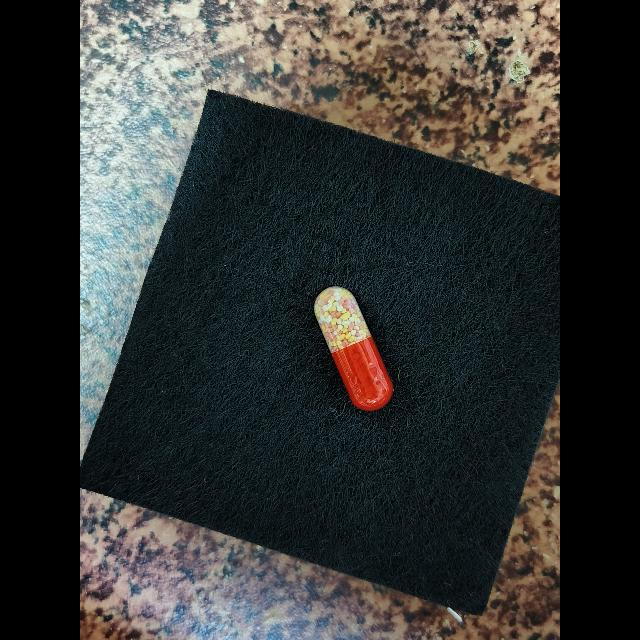Intact Capsule: (314, 286, 393, 411)
